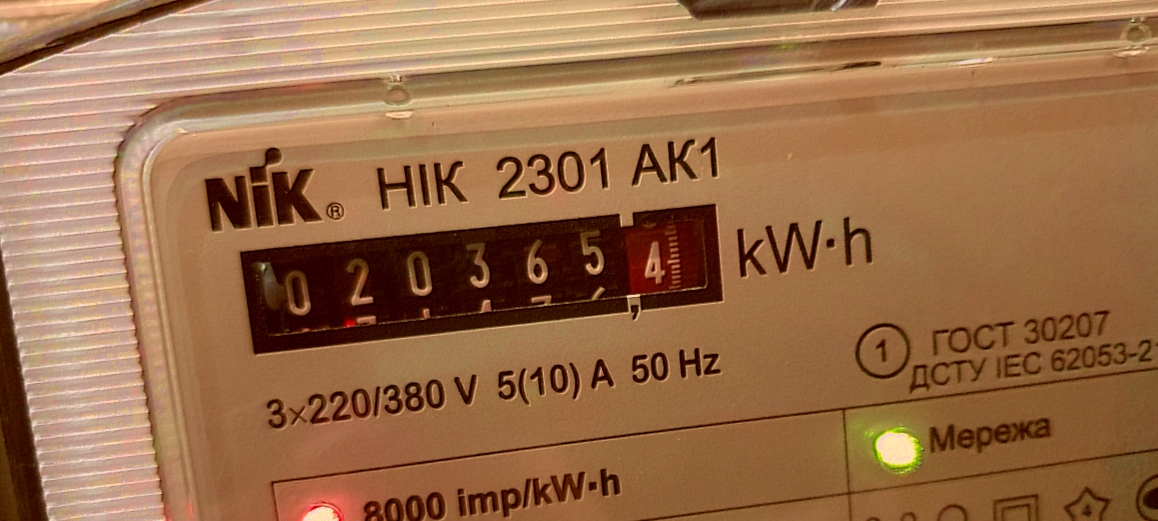0: (278, 263, 317, 321), (403, 247, 437, 300)
2: (341, 254, 377, 308)
3: (462, 239, 495, 291)
4: (639, 236, 667, 287)
5: (578, 228, 609, 277)
6: (520, 234, 551, 287)
screen: (224, 183, 743, 372)
